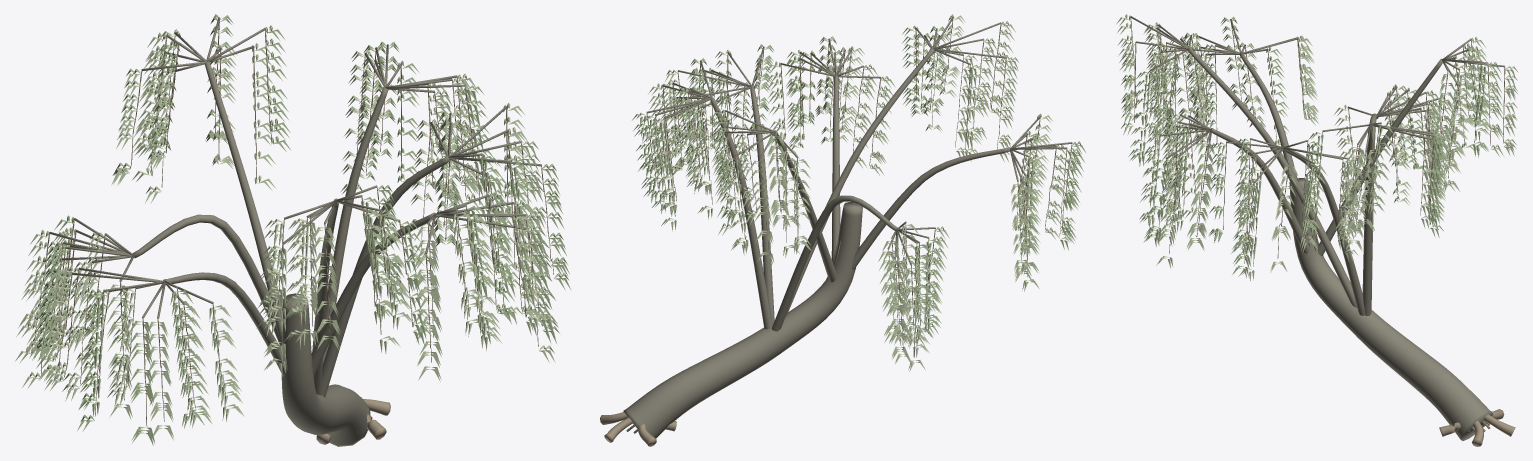
The model's file is grove-willow-5.glb.
3 views of the same model, side by side, from view 1: azimuth 30°, elevation 25°; view 2: azimuth 150°, elevation 25°; view 3: azimuth 270°, elevation 25° (orthographic). The views are drawn at different scales.
Visible parts, largest first — view 1: grove-willow-5; view 2: grove-willow-5; view 3: grove-willow-5.
Part boxes in pixels (x1,y1,x2,y2): grove-willow-5: [15, 14, 571, 446]; grove-willow-5: [600, 14, 1086, 446]; grove-willow-5: [1116, 14, 1518, 446].
Bounding box in the file's own units: 8.4 × 7.36 × 7.96.
